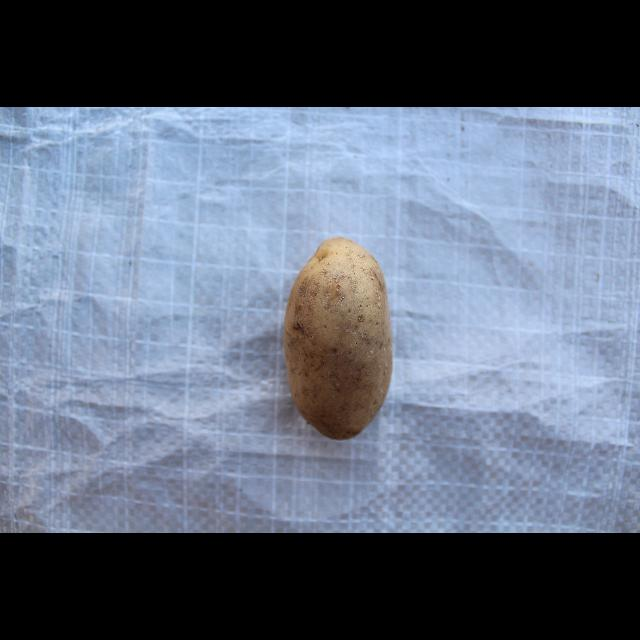Diseased-fungal potato: (282, 234, 396, 444)
